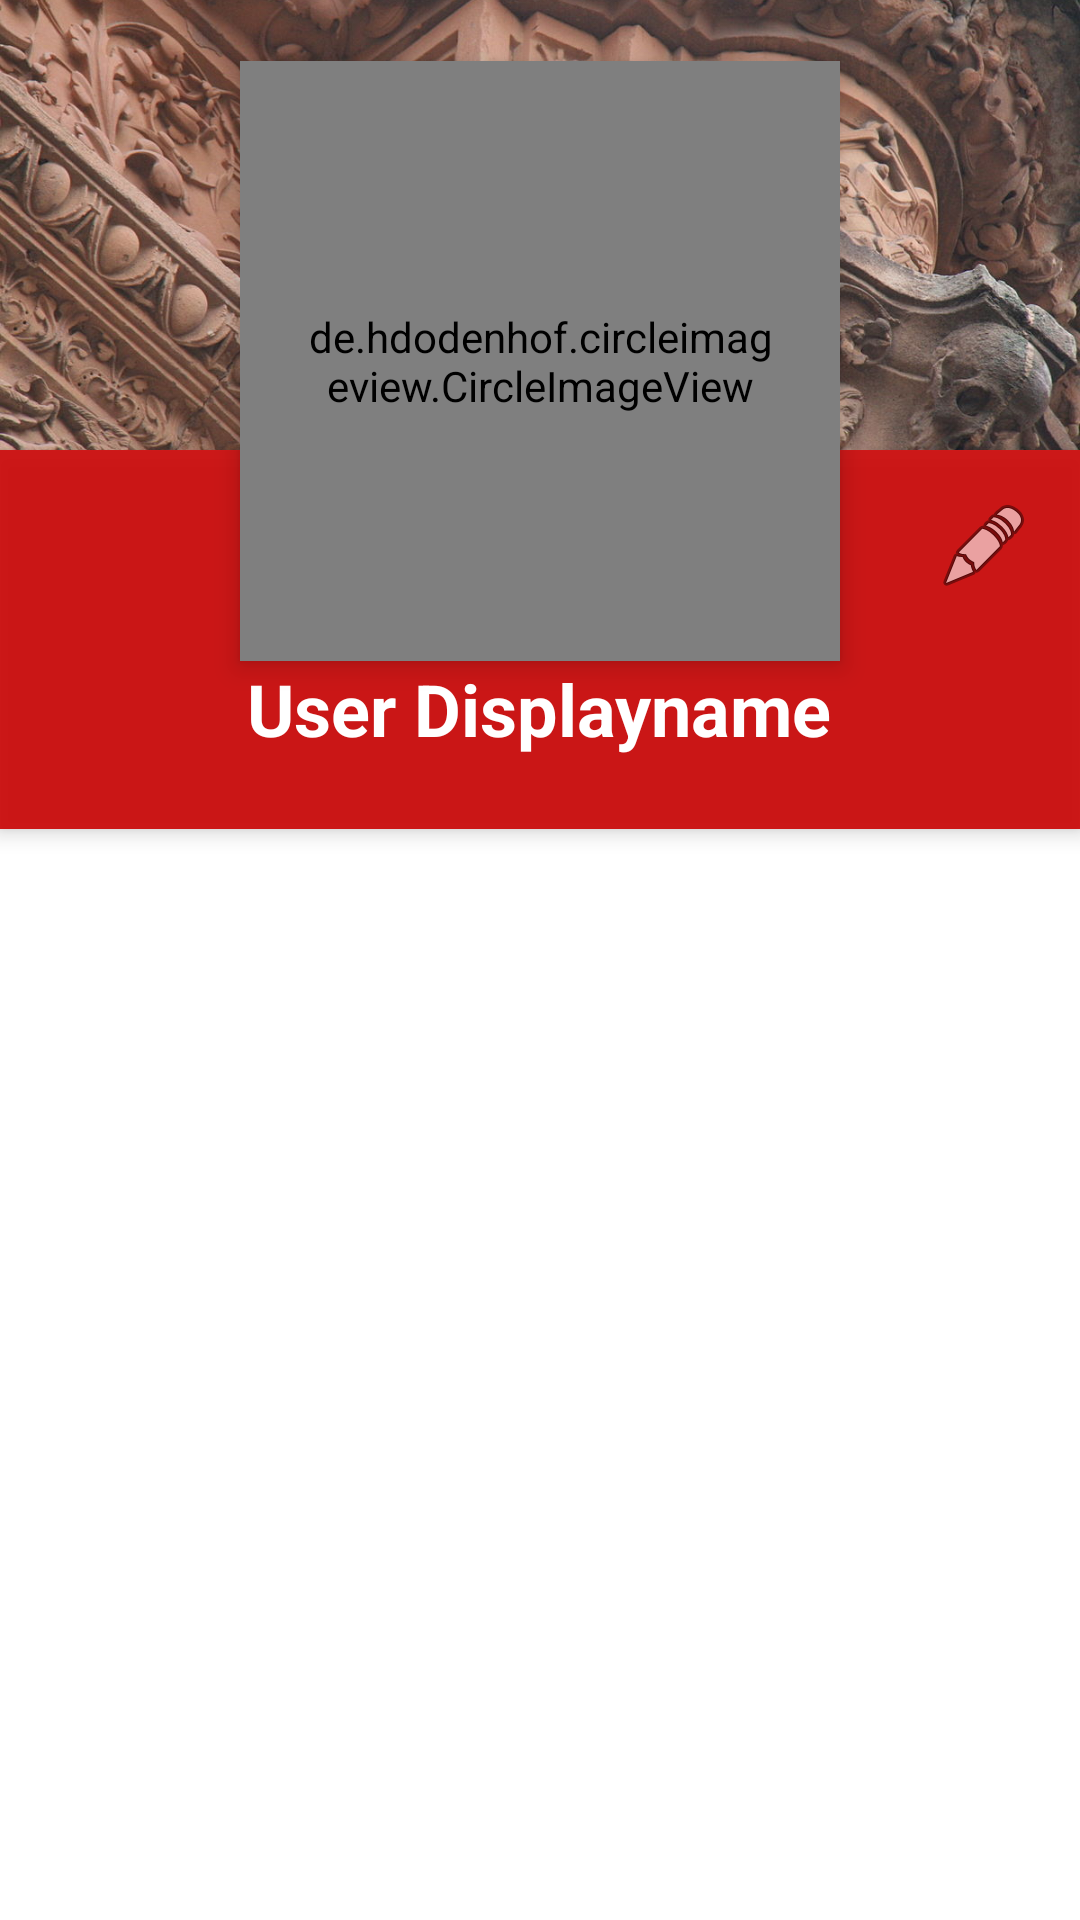

Where to tap for icons on this 1080*1920 app screen, as point (x, y):
edit: point (983, 545)
